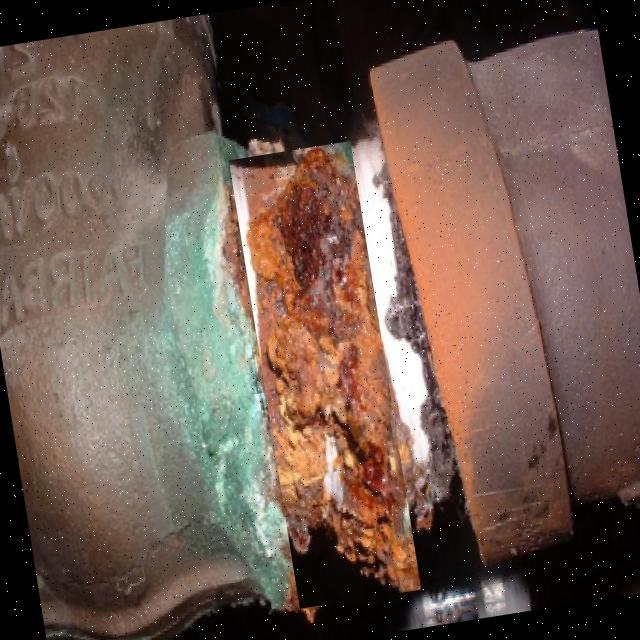Corrosion: (0, 12, 310, 640), (364, 30, 582, 572), (225, 139, 428, 610)
